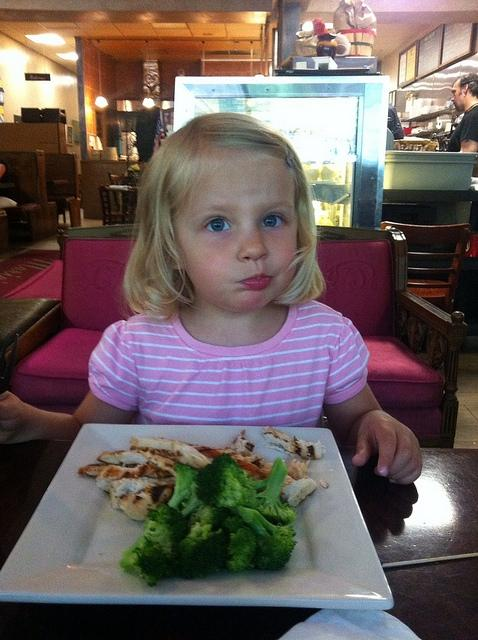broccoli: (237, 506, 298, 570), (195, 452, 256, 510), (250, 456, 300, 526), (176, 522, 230, 580), (136, 526, 178, 580), (167, 462, 201, 514), (226, 526, 258, 572), (154, 503, 190, 543), (200, 506, 231, 533)
